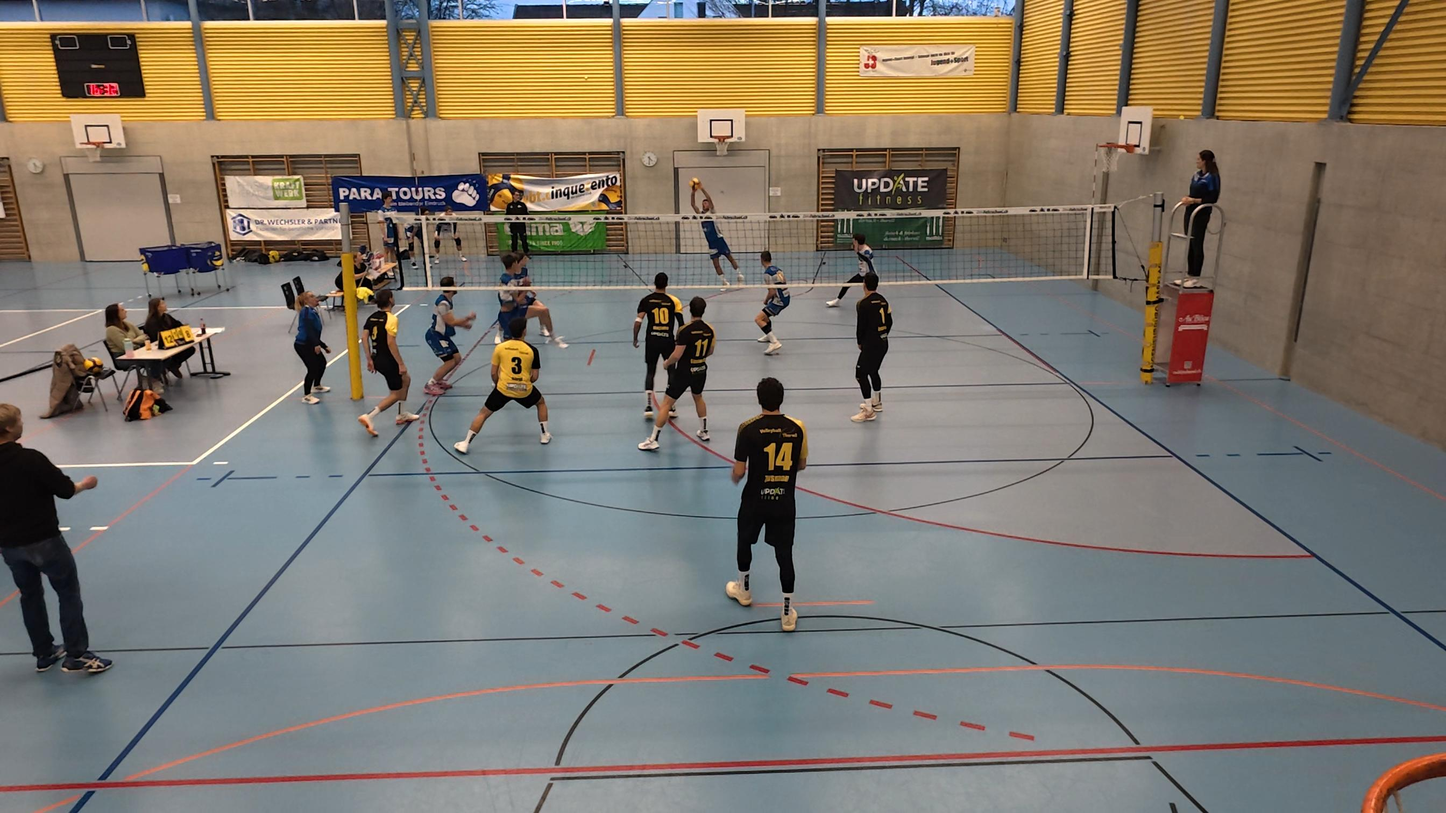Dig: (687, 178, 742, 293)
Player: (725, 376, 807, 632), (452, 320, 551, 455), (637, 297, 715, 450), (356, 290, 427, 436), (420, 277, 483, 400), (631, 275, 685, 417), (844, 274, 893, 422), (500, 260, 564, 351), (827, 233, 878, 308), (755, 255, 792, 355)
ball: (687, 175, 701, 187)
